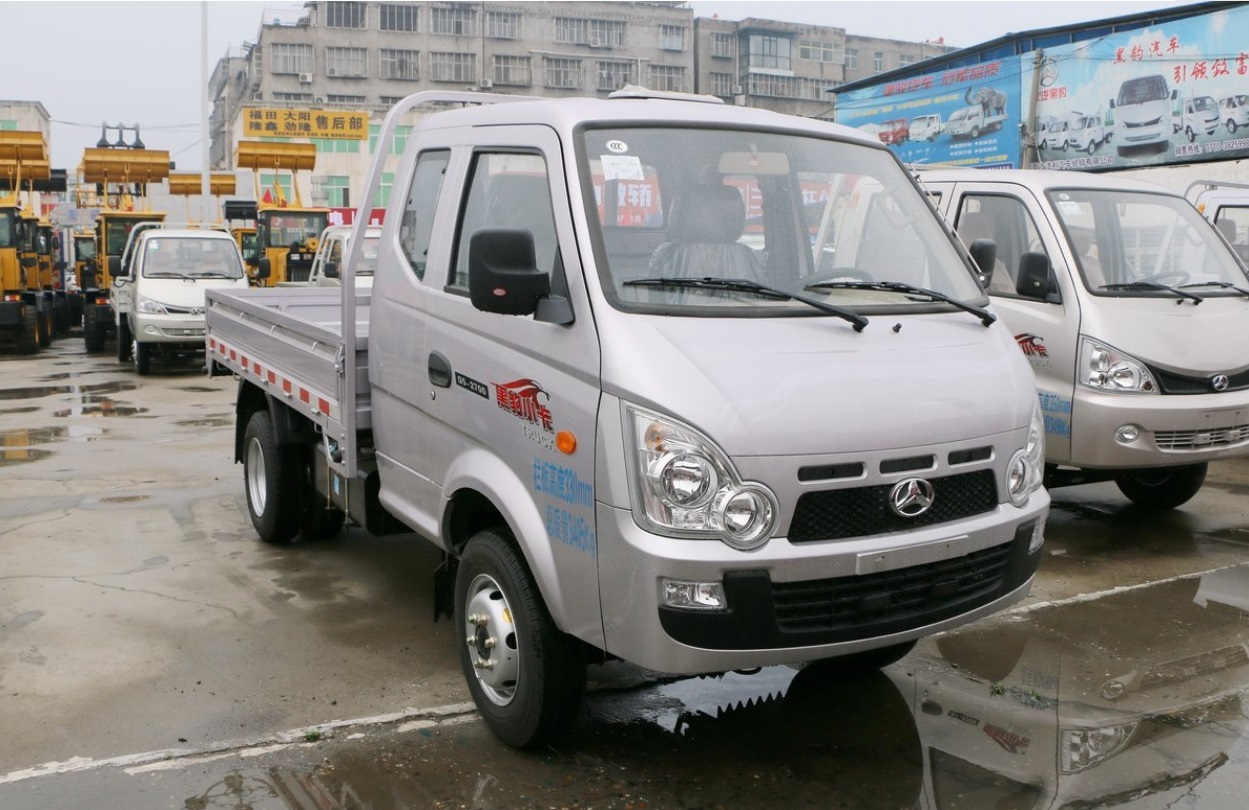truck: (204, 82, 1055, 745)
